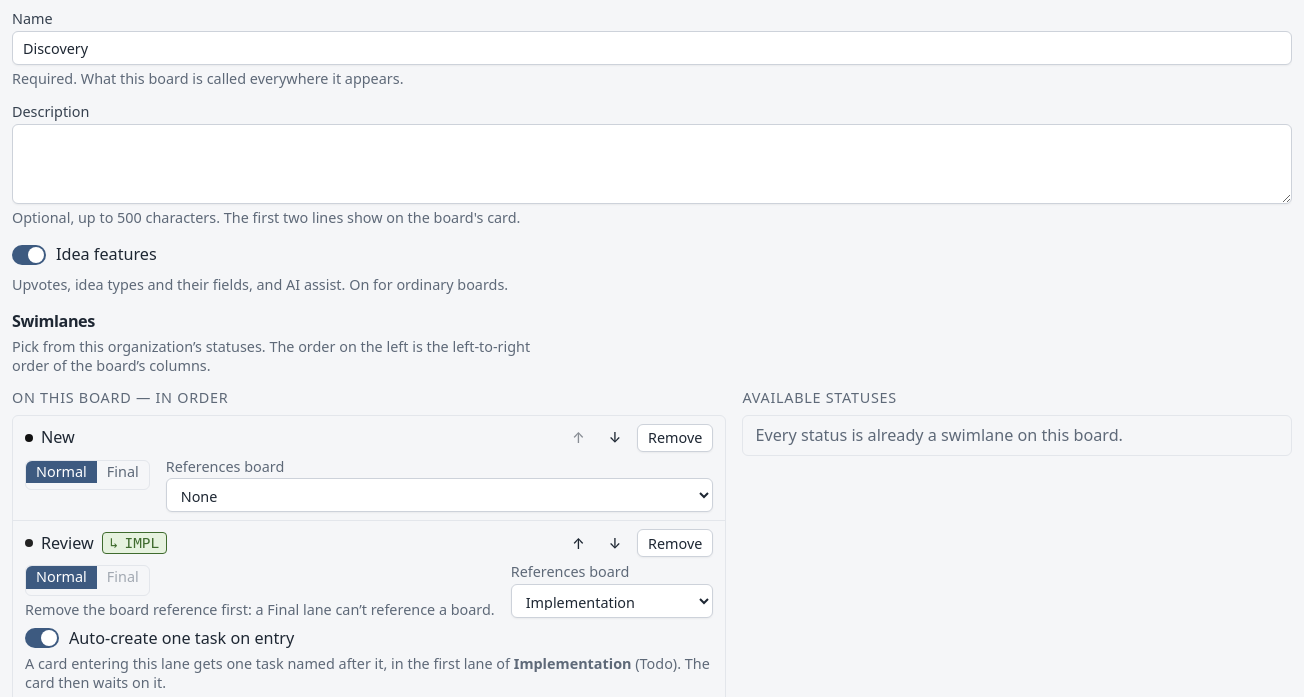
Scenario: the auto-create switch › drops the note once a reference is put back
Select "None" in the dropdown named "References board for Review": {"x": 612, "y": 601} [511,584,713,618]
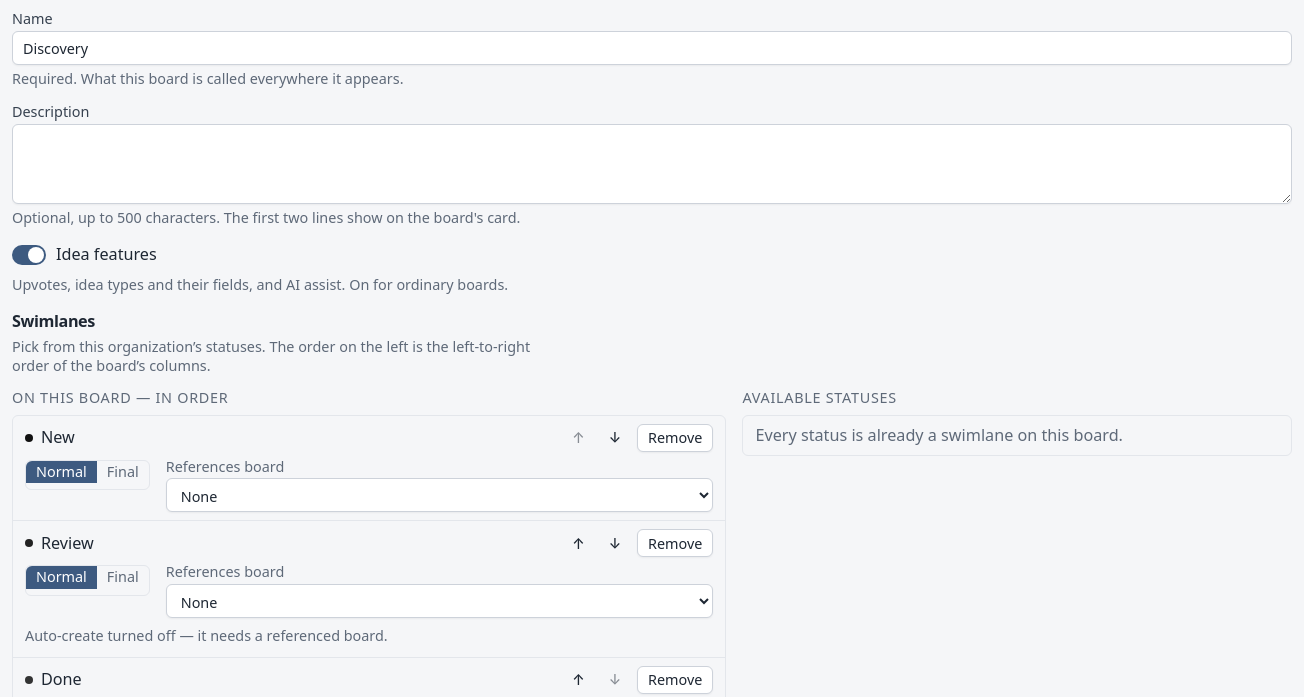
Select "Implementation" in the dropdown named "References board for Review": {"x": 440, "y": 601} [166,584,713,618]
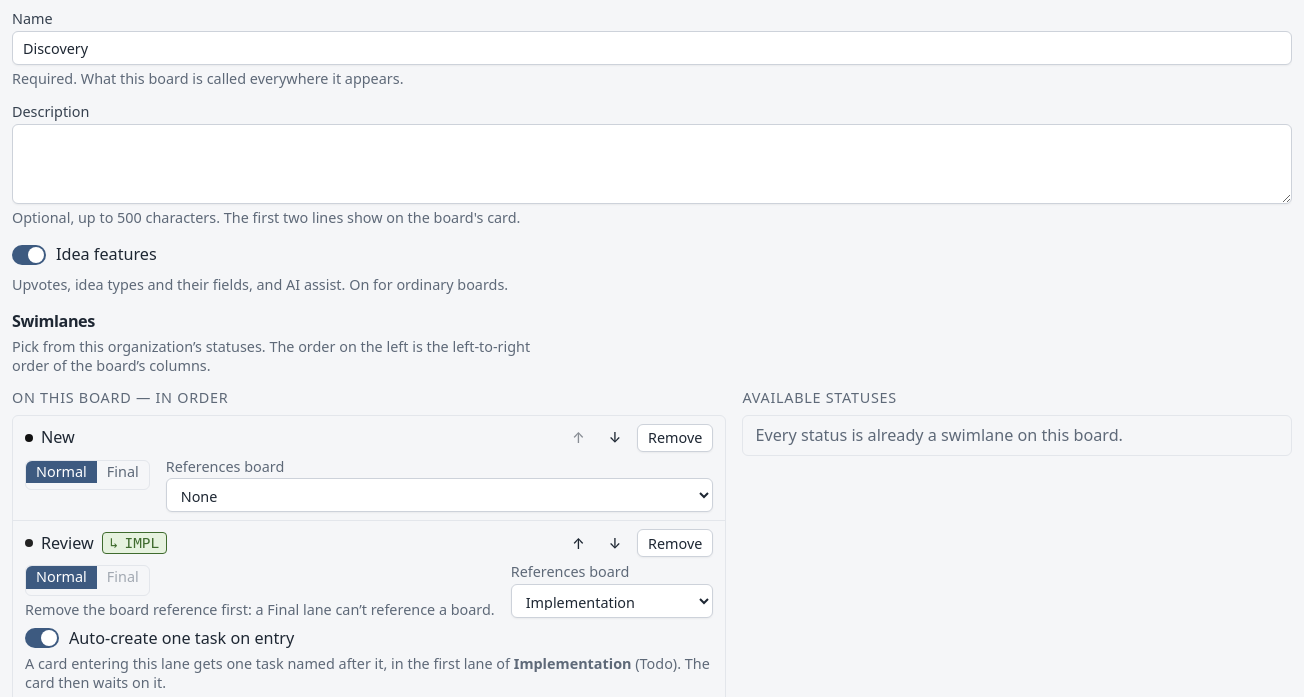
Expected: the message "Auto-create turned off — it needs a referenced board." is gone
